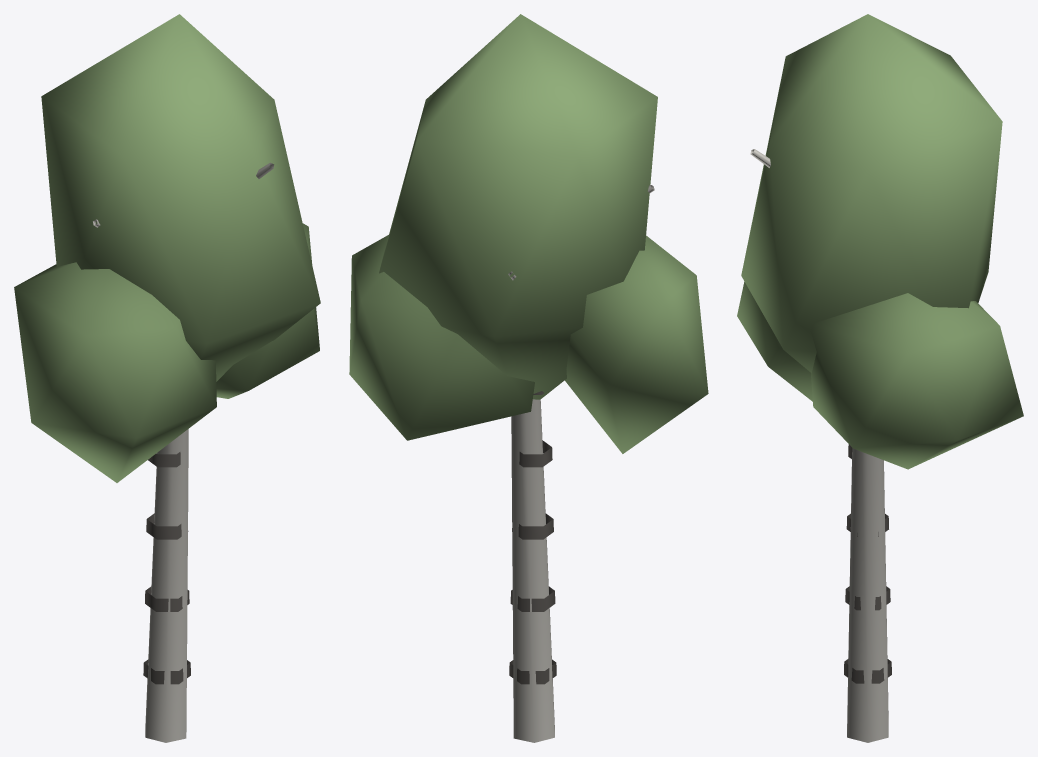
Rendered from birch.glb.
The picture shows the model from 3 angles, left to right: view 1: azimuth 30°, elevation 25°; view 2: azimuth 150°, elevation 25°; view 3: azimuth 270°, elevation 25°; orthographic projection.
Parts seen in each view (by area): view 1: Leaves, Trunk; view 2: Leaves, Trunk; view 3: Leaves, Trunk.
Boxes of the visible parts, bbox=[...] form: Leaves: bbox=[14, 14, 320, 482]; Trunk: bbox=[93, 162, 274, 742]; Leaves: bbox=[349, 14, 708, 453]; Trunk: bbox=[508, 185, 654, 742]; Leaves: bbox=[737, 14, 1023, 469]; Trunk: bbox=[750, 149, 891, 742].
Size of the model in its own units: 0.4622 by 0.998 by 0.3577.
